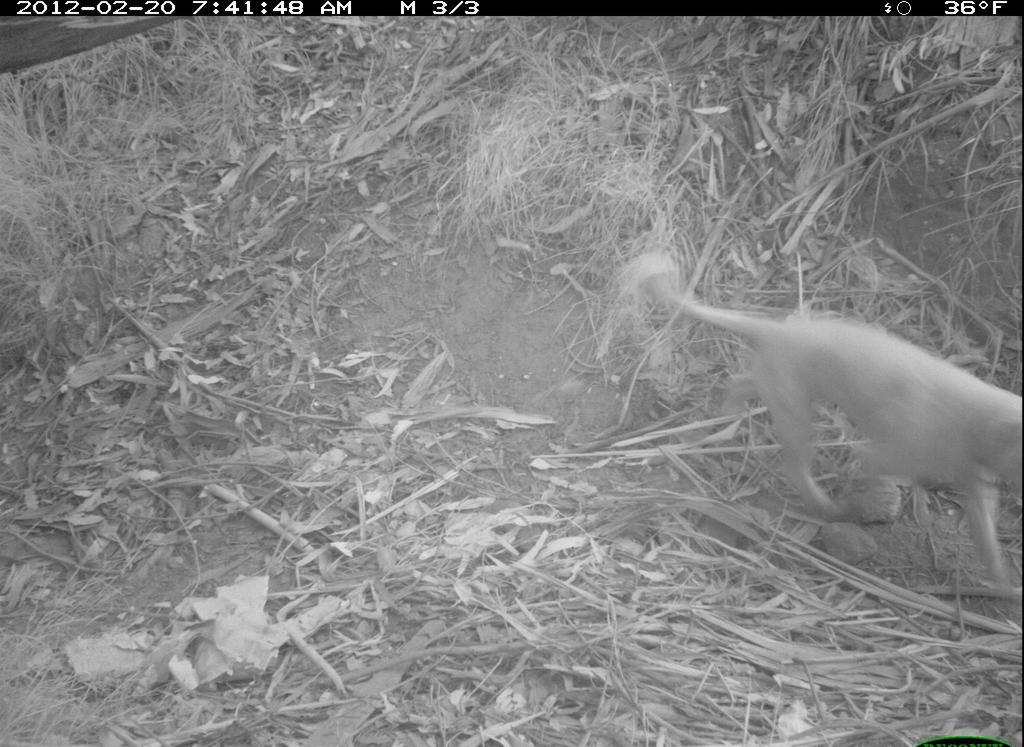dog: (632, 250, 1023, 606)
